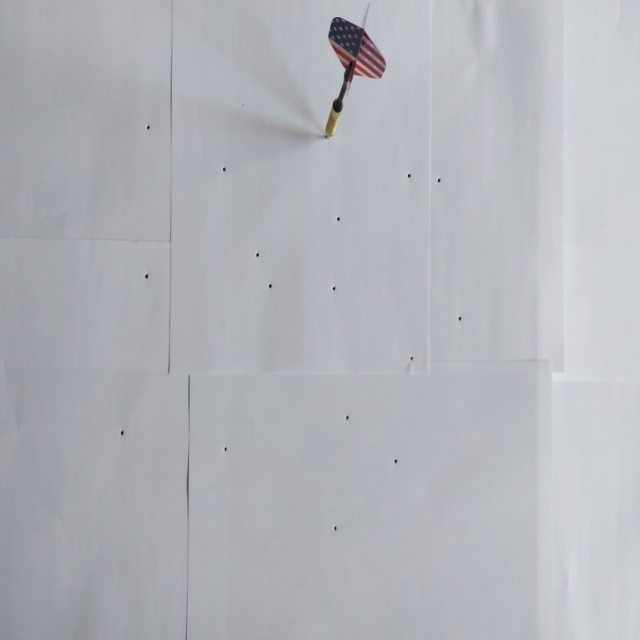Dart: (319, 1, 392, 144)
